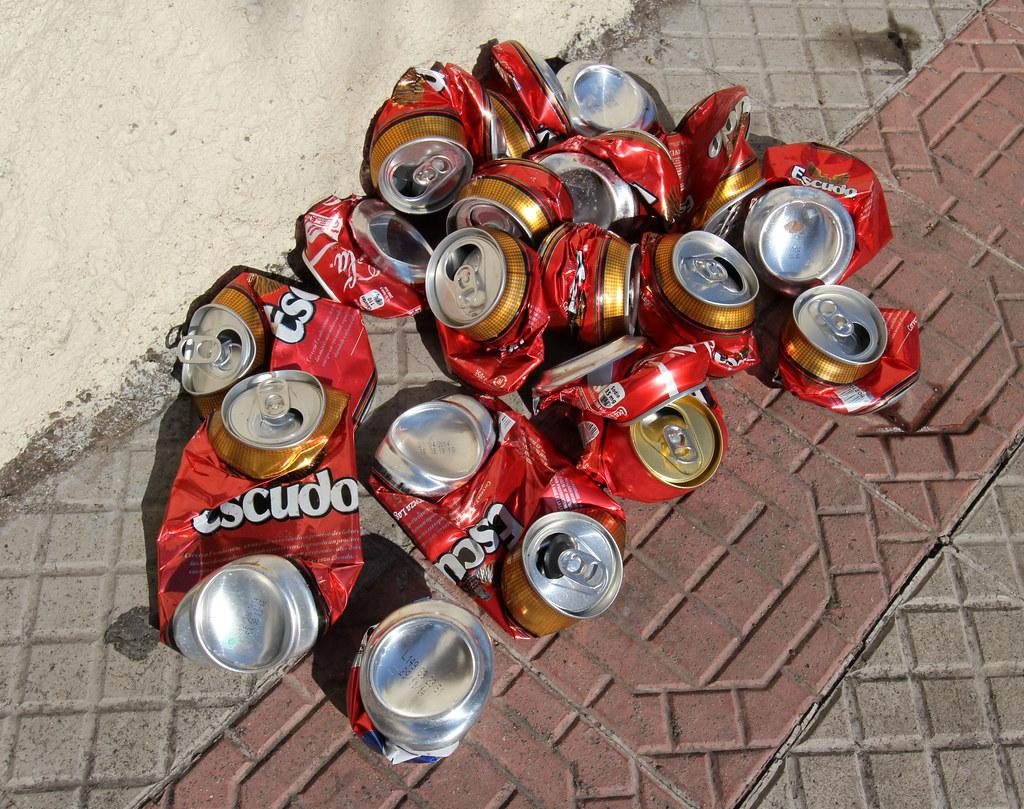metal: (373, 394, 633, 659), (146, 383, 367, 666), (157, 267, 390, 423), (539, 334, 741, 507), (354, 39, 565, 198), (339, 596, 503, 773), (438, 129, 688, 244), (410, 222, 555, 392), (732, 139, 900, 281), (779, 281, 926, 416), (637, 227, 765, 380), (296, 183, 433, 320), (645, 221, 757, 384), (536, 221, 646, 347), (676, 83, 773, 218), (544, 59, 666, 137)
